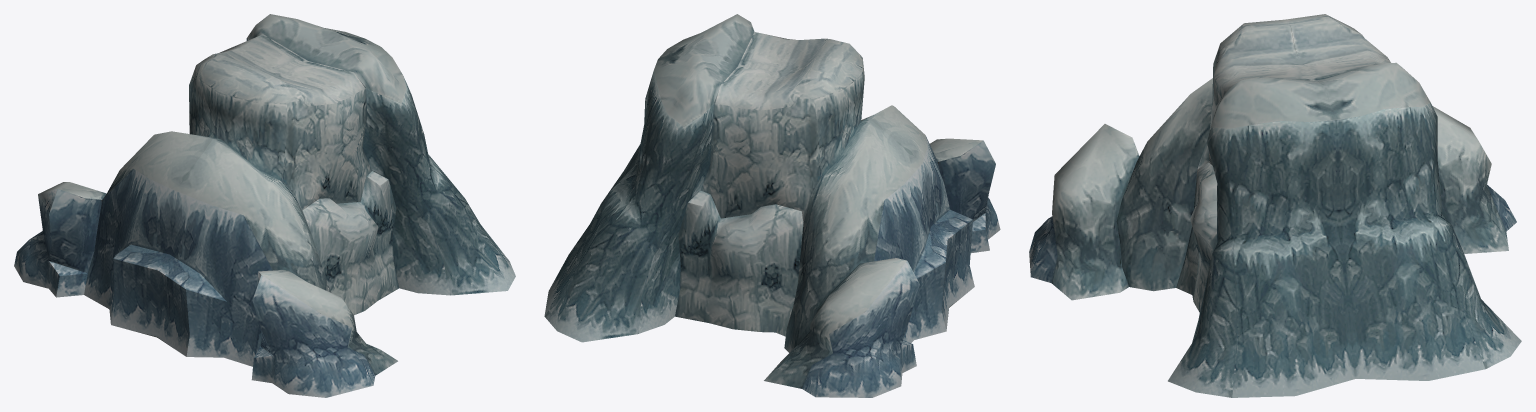
3 views of the same model, side by side, from view 1: azimuth 30°, elevation 25°; view 2: azimuth 150°, elevation 25°; view 3: azimuth 270°, elevation 25° (orthographic). The views are drawn at different scales.
Visible parts, largest first — view 1: X_wj9; view 2: X_wj9; view 3: X_wj9.
Boxes of the visible parts, x1=… form: X_wj9: x1=14, y1=14, x2=515, y2=397; X_wj9: x1=544, y1=14, x2=1000, y2=397; X_wj9: x1=1029, y1=14, x2=1521, y2=397.
Bounding box in the file's own units: 1202 × 690 × 1232.
Materials: 1 (1 with a texture image).
